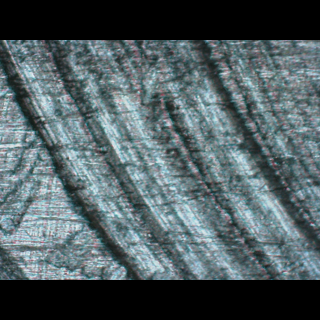d: (6, 40, 319, 277)
